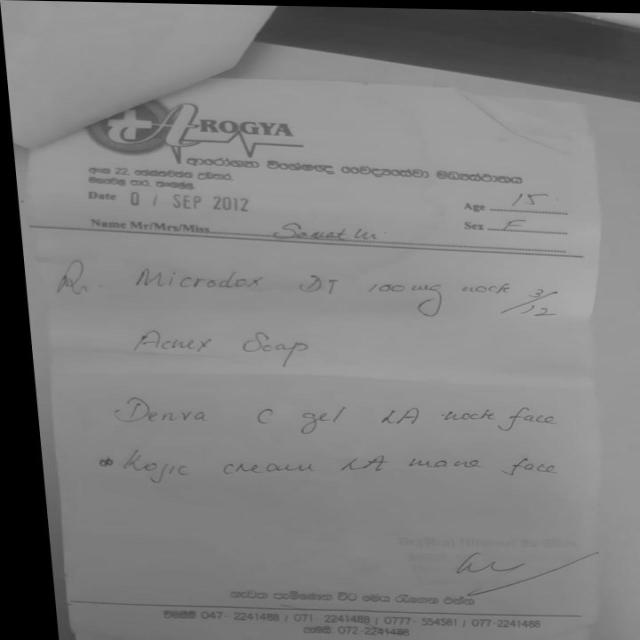Prescription: (121, 262, 561, 320), (108, 389, 492, 433), (109, 443, 473, 488), (122, 327, 303, 367)
